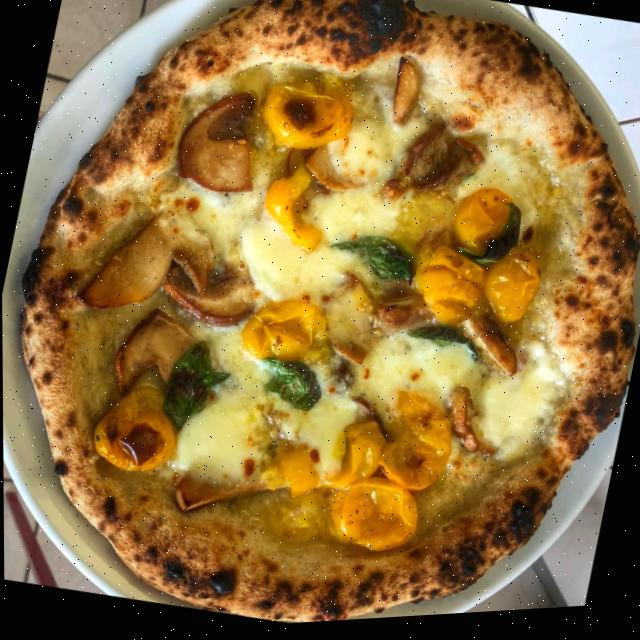basil: (153, 331, 238, 448), (326, 225, 421, 302), (254, 354, 328, 418), (399, 316, 483, 371)
mushrooms: (72, 191, 225, 341), (378, 110, 500, 229), (171, 81, 270, 208), (154, 240, 266, 344), (105, 304, 213, 410), (323, 272, 421, 379), (164, 457, 257, 529), (281, 138, 371, 202), (444, 320, 528, 388), (314, 366, 391, 431), (440, 389, 500, 465), (382, 61, 426, 134)
pizza: (0, 0, 640, 640)
tomatoes: (313, 380, 459, 569), (253, 60, 372, 171), (81, 388, 194, 482), (233, 285, 335, 380), (403, 245, 494, 340), (250, 159, 333, 261), (471, 248, 550, 336), (254, 441, 328, 523), (443, 182, 517, 263)
